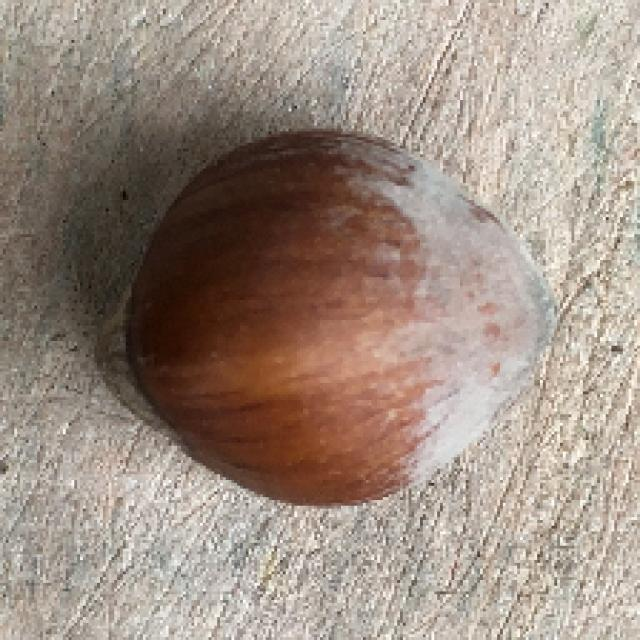qualityHazelnut: (95, 125, 559, 513)
